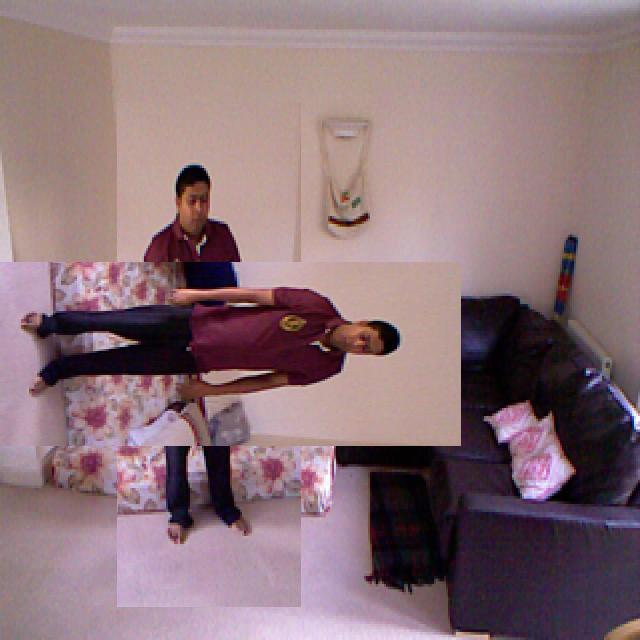NotFall: (10, 268, 422, 433)
